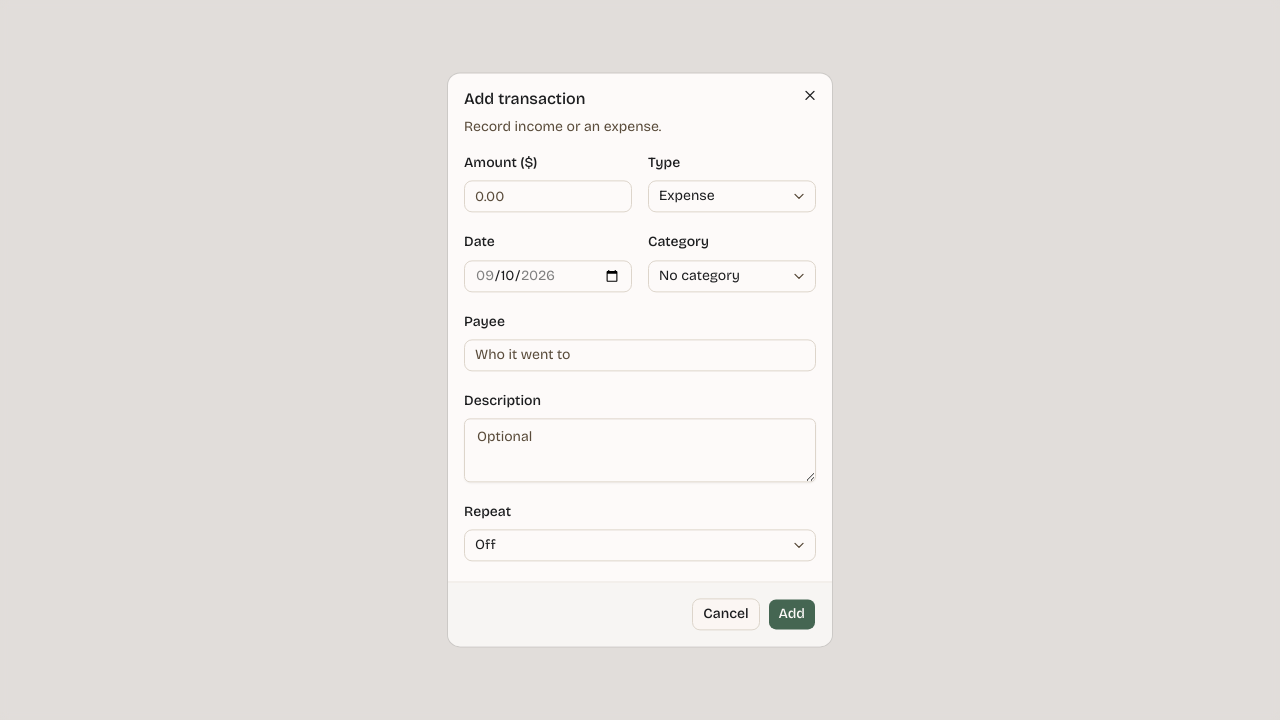
TransactionDialog › says what to do when the amount is left empty
The image size is (1280, 720).
Click the button "Add".
click(792, 615)  # box x1=768 y1=599 x2=816 y2=631
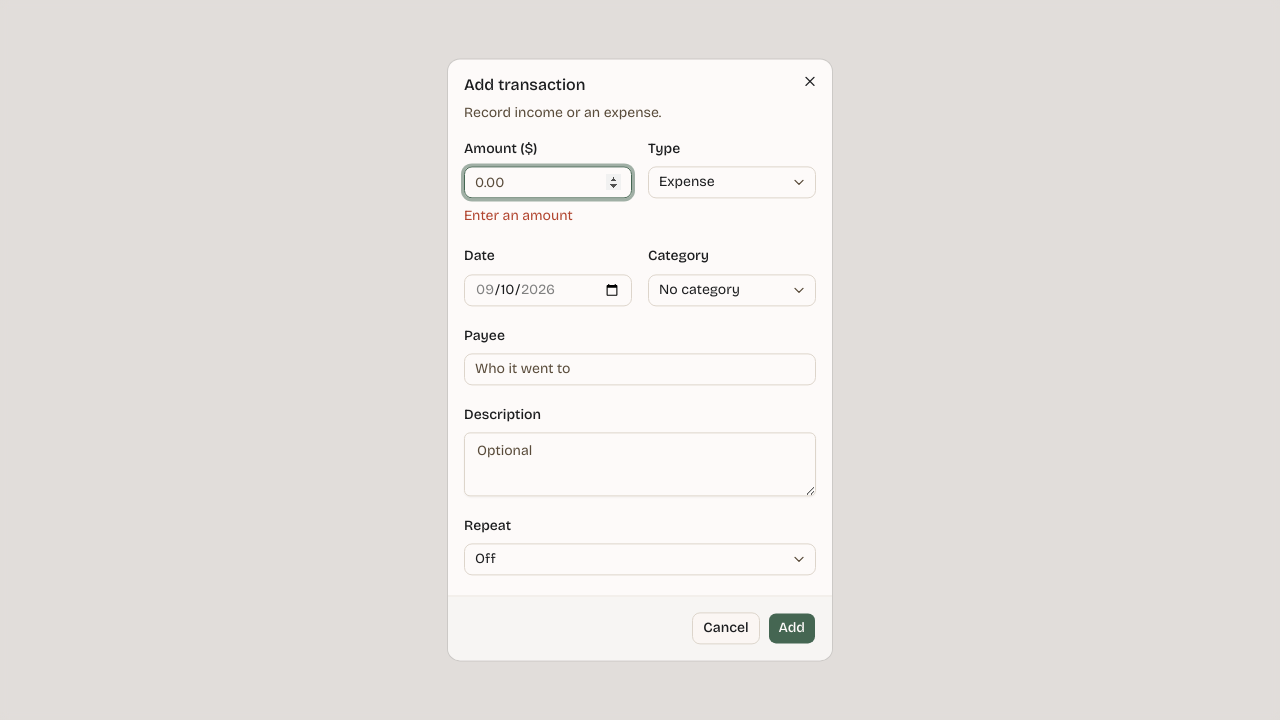
Expected: the text "Enter an amount" is shown, x1=464 y1=208 x2=573 y2=225
